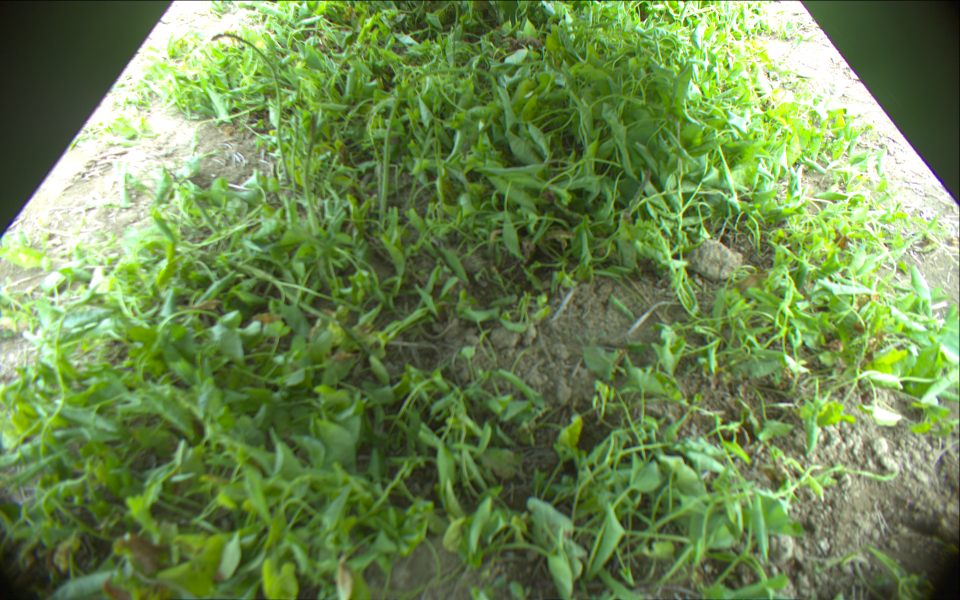aspa: (379, 66, 507, 228), (210, 32, 291, 183), (302, 114, 326, 240)
